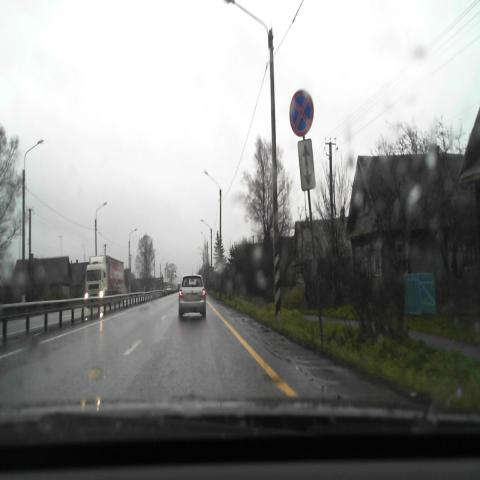8_2_4: (298, 138, 316, 190)
